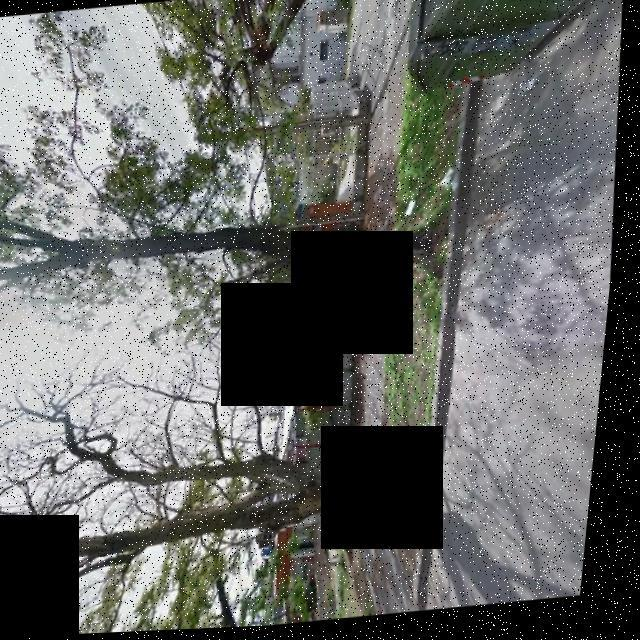bin: (396, 0, 629, 109)
